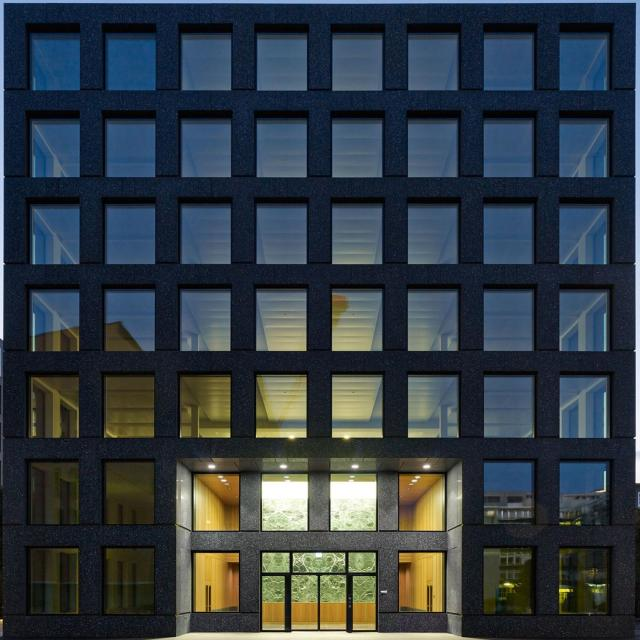door: (344, 571, 379, 634), (259, 573, 292, 634)
window: (260, 552, 378, 633), (562, 464, 613, 527), (103, 118, 156, 178), (182, 31, 233, 92), (411, 29, 462, 90), (407, 286, 458, 347), (485, 549, 532, 615), (106, 551, 155, 614), (562, 552, 610, 616), (406, 116, 457, 176), (407, 204, 458, 264), (179, 378, 230, 438), (179, 116, 229, 177), (180, 205, 230, 266), (180, 288, 230, 349), (32, 551, 82, 612), (407, 376, 457, 436), (105, 33, 156, 89), (330, 123, 381, 179), (103, 206, 154, 262), (331, 211, 382, 267), (556, 205, 607, 261), (103, 206, 154, 262), (331, 295, 382, 351), (103, 290, 154, 346), (102, 380, 153, 436), (32, 33, 80, 92), (261, 31, 309, 90), (484, 32, 532, 91), (480, 117, 528, 176), (29, 206, 77, 265), (482, 205, 530, 264), (29, 290, 77, 349), (29, 290, 77, 349), (482, 378, 530, 437), (258, 380, 306, 439), (28, 380, 76, 439), (484, 462, 532, 521), (31, 464, 79, 523), (556, 289, 607, 344), (559, 382, 610, 437), (105, 465, 156, 520), (559, 32, 609, 88), (555, 117, 605, 173), (257, 119, 305, 177), (258, 207, 306, 265), (258, 291, 306, 349), (482, 289, 530, 347), (330, 473, 378, 531), (192, 473, 240, 531), (190, 551, 238, 609), (400, 472, 447, 531), (398, 550, 445, 609), (335, 31, 385, 86), (331, 385, 381, 440), (30, 121, 79, 175), (260, 475, 308, 530)
